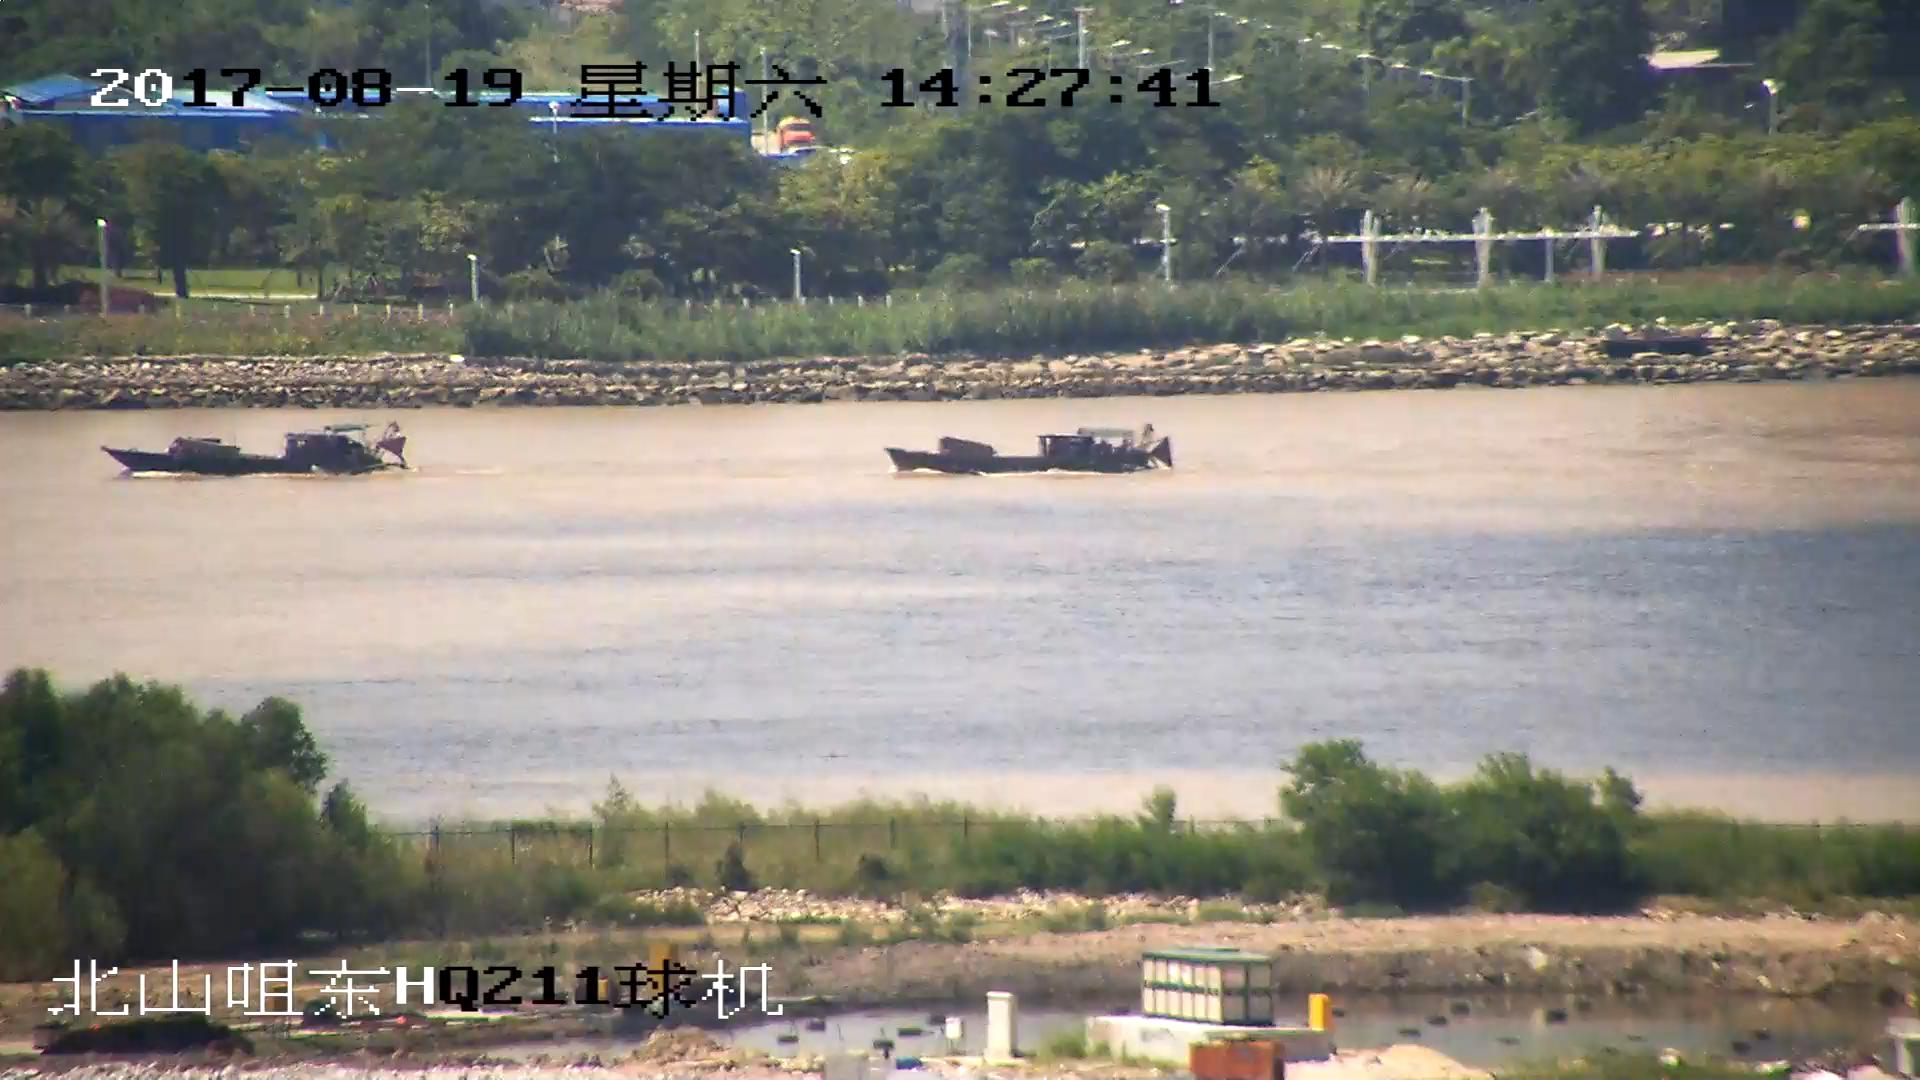fishing boat: (102, 423, 410, 477), (887, 429, 1172, 477)
